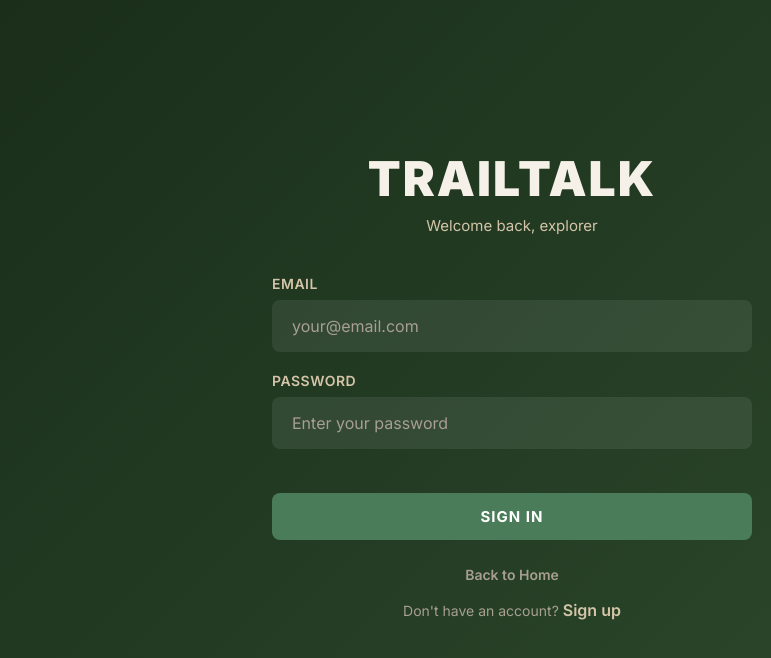
shows an error when submitting empty fields
Click the button "SIGN IN". click: (512, 516)
box: top-left (272, 492), bottom-right (752, 540)
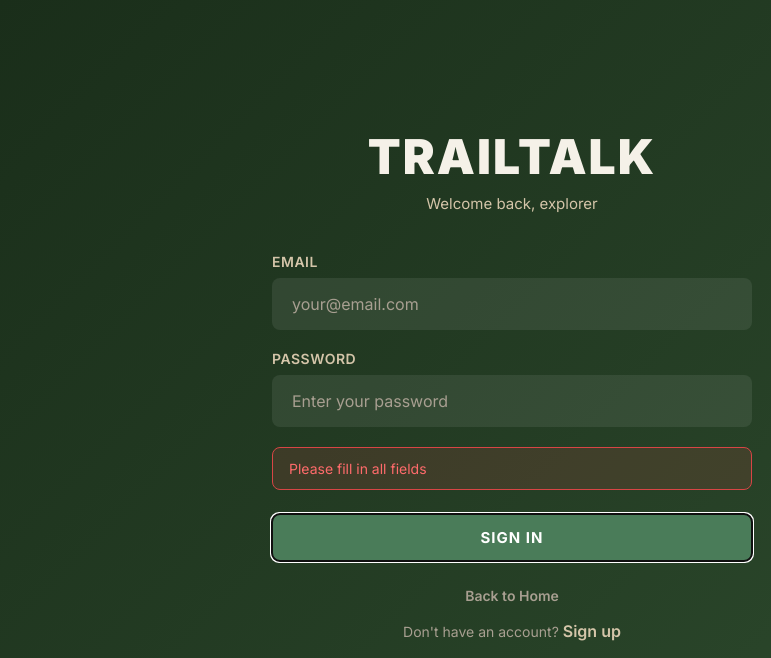
Now the text "Please fill in all fields" is shown, box top-left (272, 447), bottom-right (752, 490)
